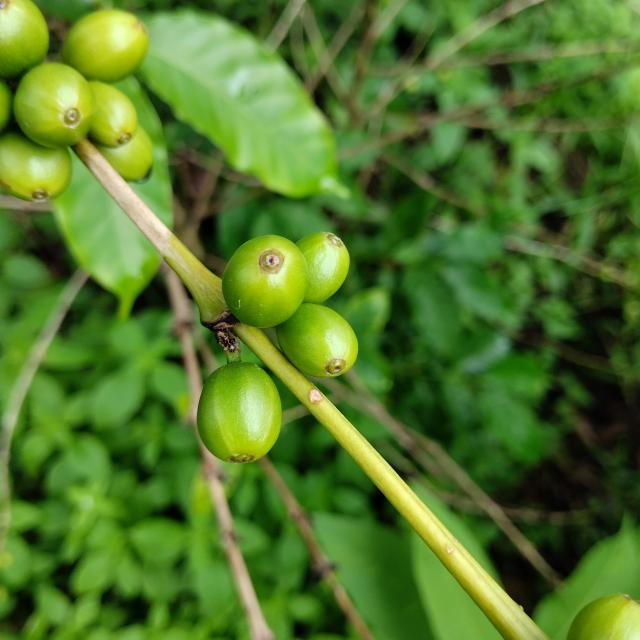green: (196, 362, 282, 463), (222, 235, 308, 328), (12, 62, 95, 148), (61, 8, 148, 81), (276, 303, 358, 378), (0, 131, 71, 201), (296, 232, 350, 304), (0, 0, 48, 78), (88, 80, 137, 147), (568, 595, 640, 640), (95, 125, 152, 181), (0, 80, 11, 131)
